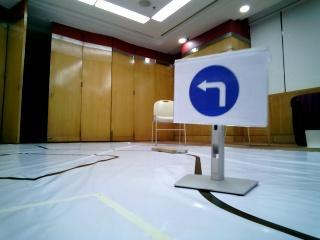left: (176, 64, 261, 130)
